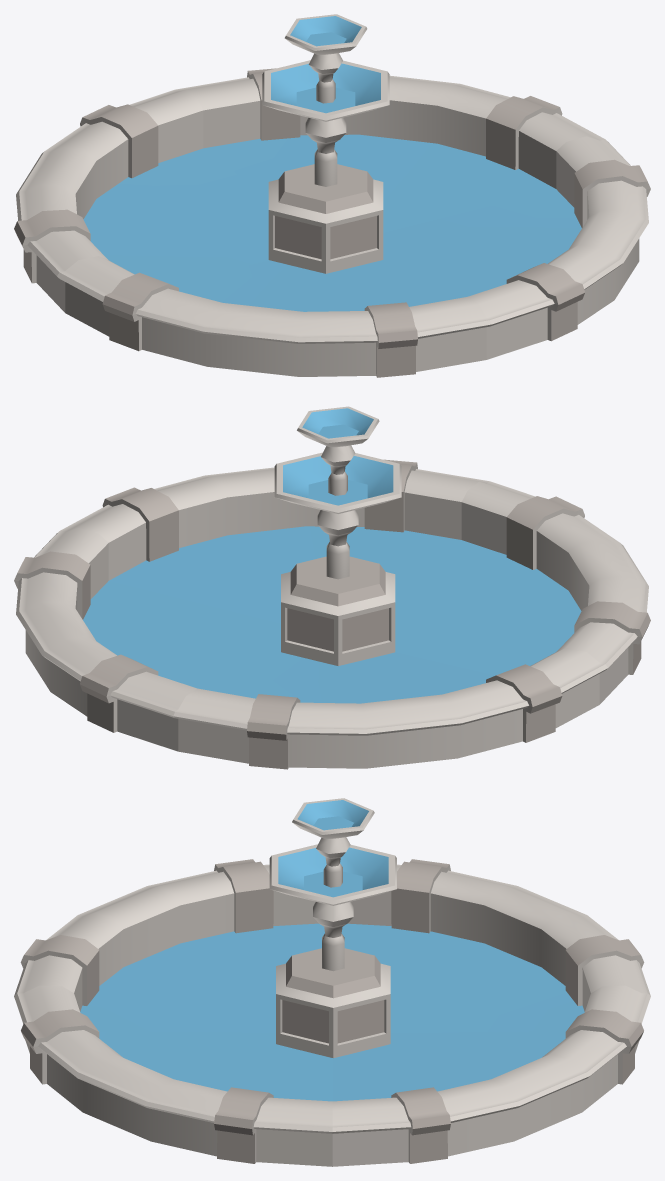
The model's file is tiered-fountain.glb.
3 renders of one model, top to bottom at view 1: azimuth 30°, elevation 25°; view 2: azimuth 150°, elevation 25°; view 3: azimuth 270°, elevation 25°, orthographic.
Parts seen in each view (by area): view 1: SM_Fountain:SM_Fountain1; view 2: SM_Fountain:SM_Fountain1; view 3: SM_Fountain:SM_Fountain1.
Boxes of the visible parts, x1,y1,x2,y2 form: SM_Fountain:SM_Fountain1: [14, 14, 650, 377]; SM_Fountain:SM_Fountain1: [14, 406, 650, 769]; SM_Fountain:SM_Fountain1: [14, 798, 650, 1166].
Bounding box in the file's own units: 1.4 × 0.5337 × 1.4.
